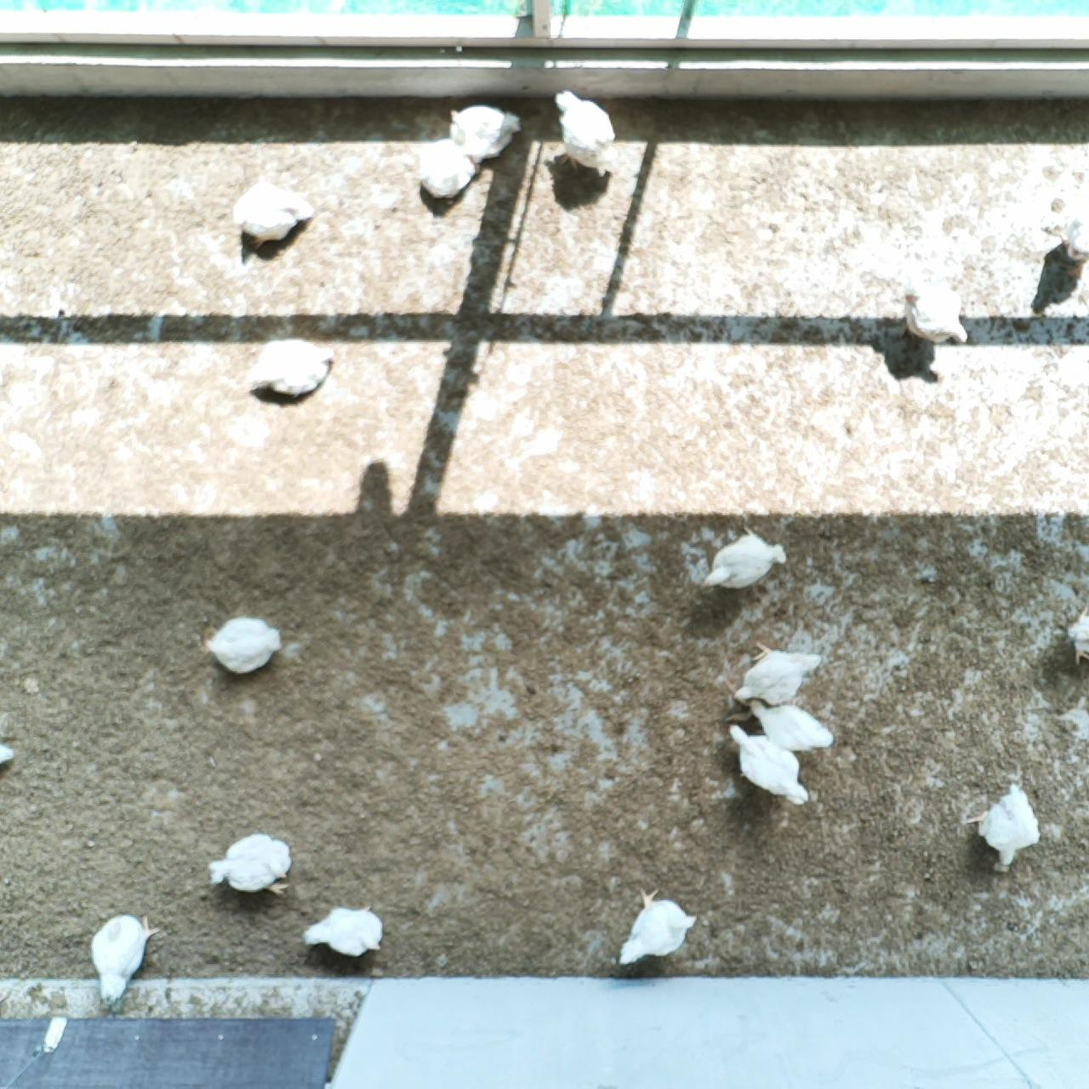chicken: (726, 718, 811, 808), (87, 910, 160, 1010), (726, 638, 824, 708), (966, 779, 1041, 867), (231, 177, 317, 252), (244, 334, 337, 402), (618, 884, 696, 965), (204, 829, 293, 898), (552, 86, 616, 181), (700, 525, 787, 594), (744, 694, 837, 755), (202, 614, 285, 676), (300, 902, 387, 957), (901, 279, 969, 349), (410, 136, 479, 204), (446, 103, 522, 162), (1041, 208, 1089, 279), (1065, 604, 1089, 669), (0, 731, 18, 773)
